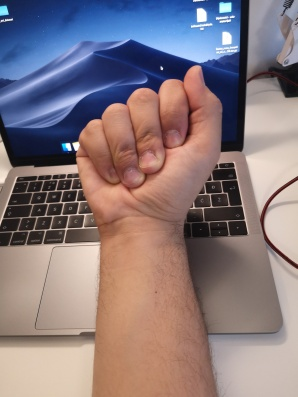A: (75, 62, 224, 230)
